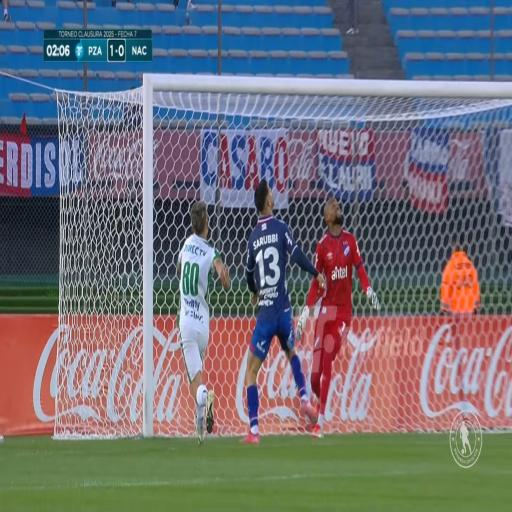Goalkeeper: (314, 190, 356, 442)
Player: (245, 176, 300, 449), (178, 200, 224, 442)
